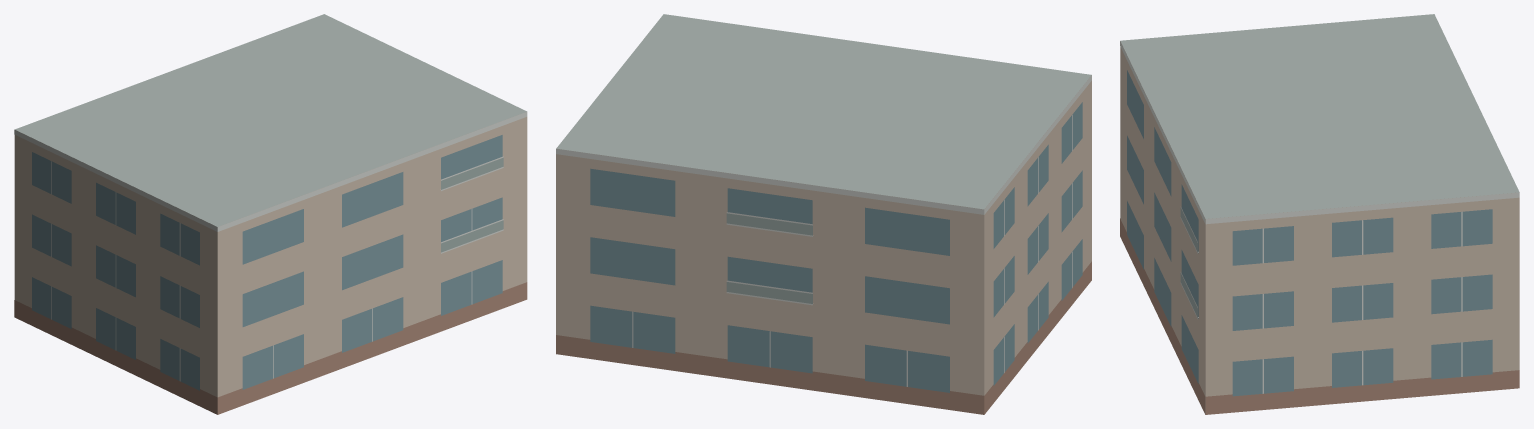
The model's file is survey-upis-32696854.glb.
3 renders of one model, left to right at view 1: azimuth 30°, elevation 25°; view 2: azimuth 150°, elevation 25°; view 3: azimuth 270°, elevation 25°, orthographic. The views are drawn at different scales.
Visible parts, largest first — view 1: survey-upis-32696854.tmp; view 2: survey-upis-32696854.tmp; view 3: survey-upis-32696854.tmp.
Part boxes in pixels (<box>): survey-upis-32696854.tmp: <box>14,14,527,414</box>; survey-upis-32696854.tmp: <box>556,14,1091,414</box>; survey-upis-32696854.tmp: <box>1120,14,1519,414</box>.
Bounding box in the file's own units: 20.55 × 9.15 × 16.93.
